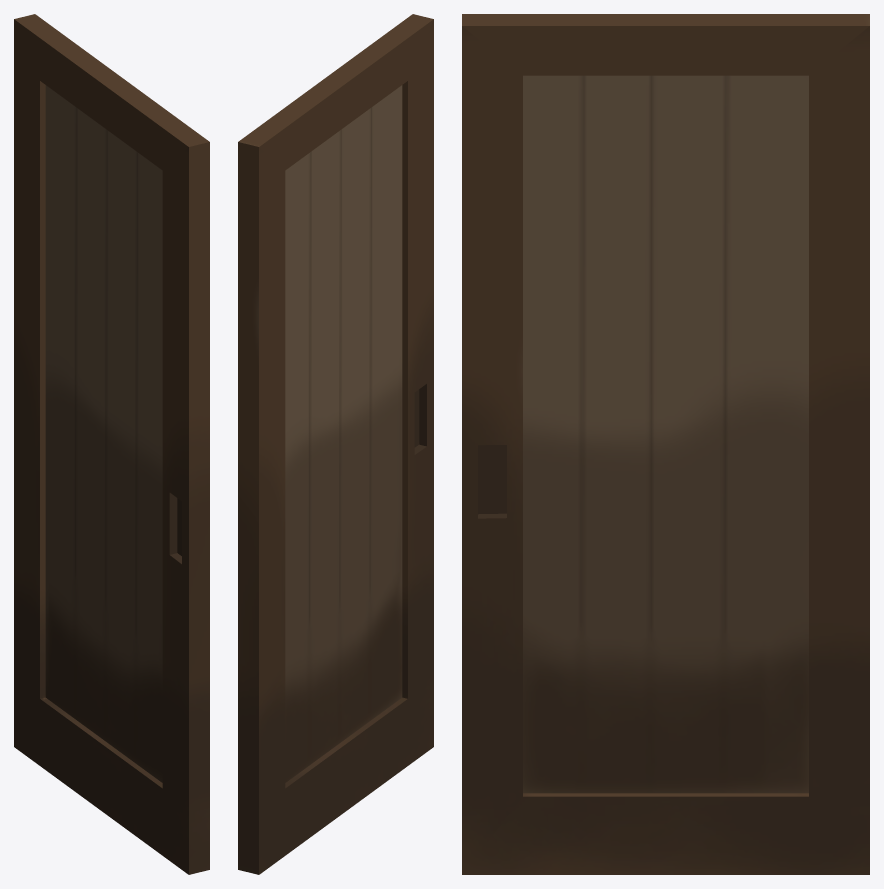
The model's file is SlidingDoor.fbx.
The picture shows the model from 3 angles, left to right: view 1: azimuth 30°, elevation 25°; view 2: azimuth 150°, elevation 25°; view 3: azimuth 270°, elevation 25°; orthographic projection. The views are drawn at different scales.
Visible parts, largest first — view 1: Cube; view 2: Cube; view 3: Cube.
Boxes of the visible parts, x1,y1,x2,y2 form: Cube: [14, 14, 209, 874]; Cube: [238, 14, 433, 874]; Cube: [462, 14, 869, 874].
Bounding box in the file's own units: 13.56 × 448 × 195.
